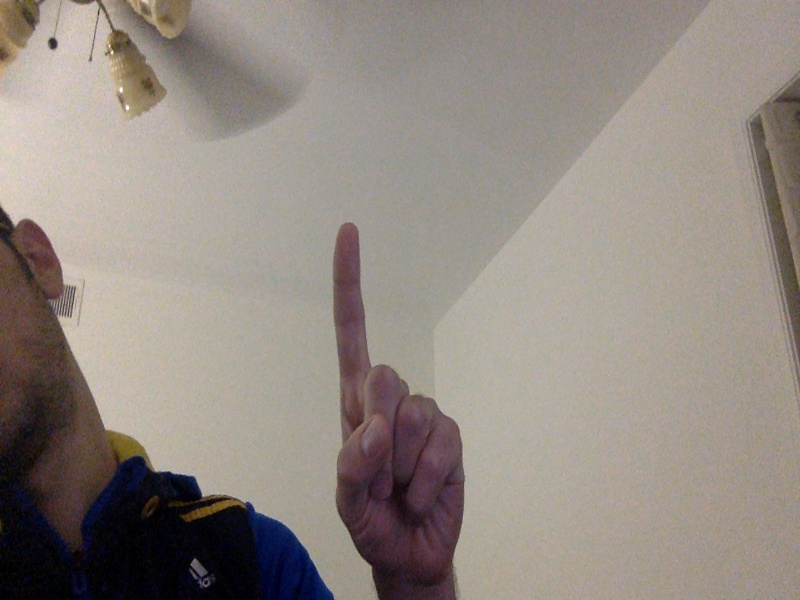1-hand: (331, 222, 468, 596)
